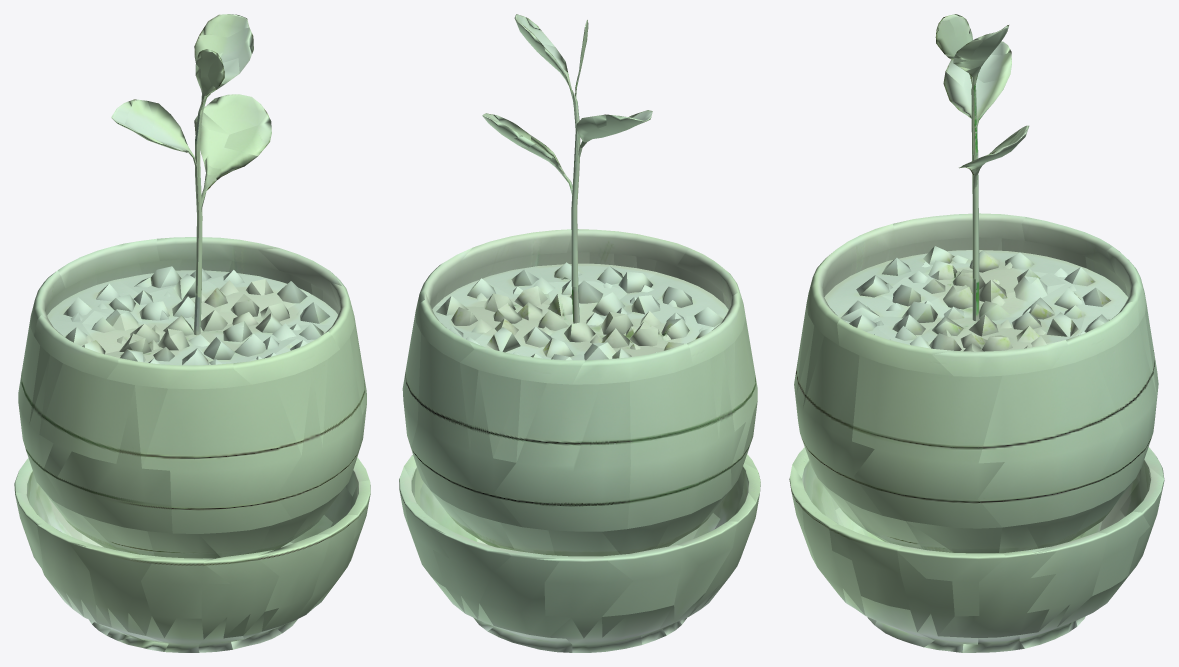
3 renders of one model, left to right at view 1: azimuth 30°, elevation 25°; view 2: azimuth 150°, elevation 25°; view 3: azimuth 270°, elevation 25°, orthographic. The views are drawn at different scales.
Size of the model in its own units: 0.5671 by 1 by 0.5661.
Materials: 1 (1 with a texture image).
